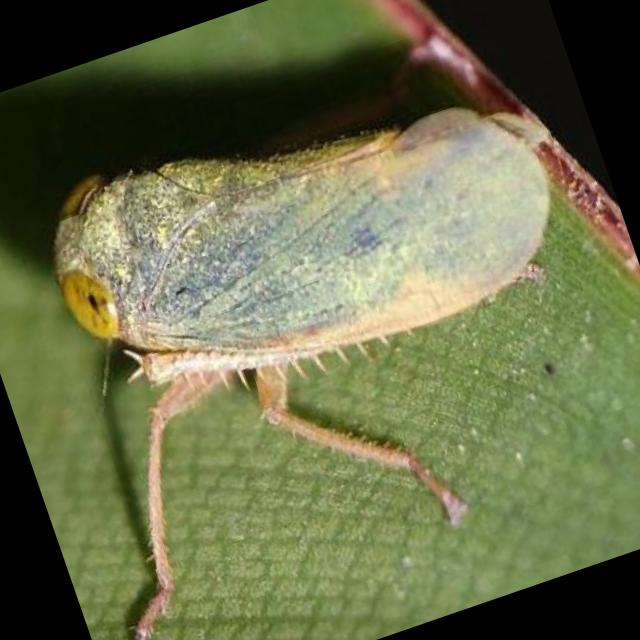green-leafhopper: (44, 41, 602, 470)
